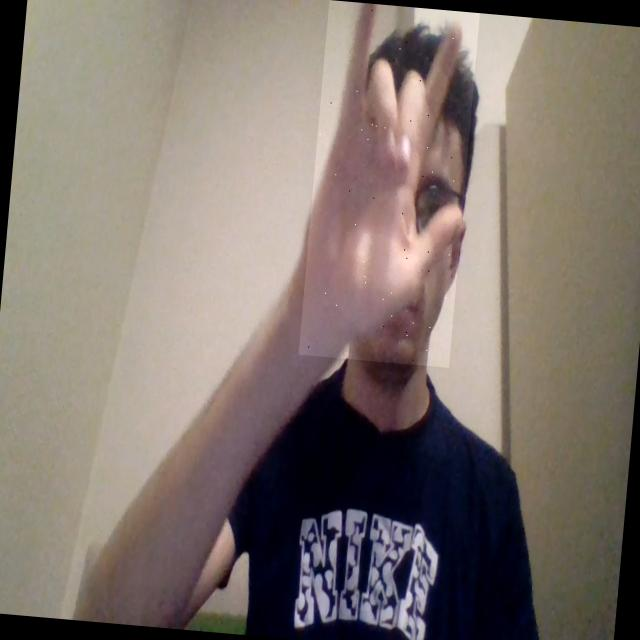iloveyou: (298, 0, 479, 367)
